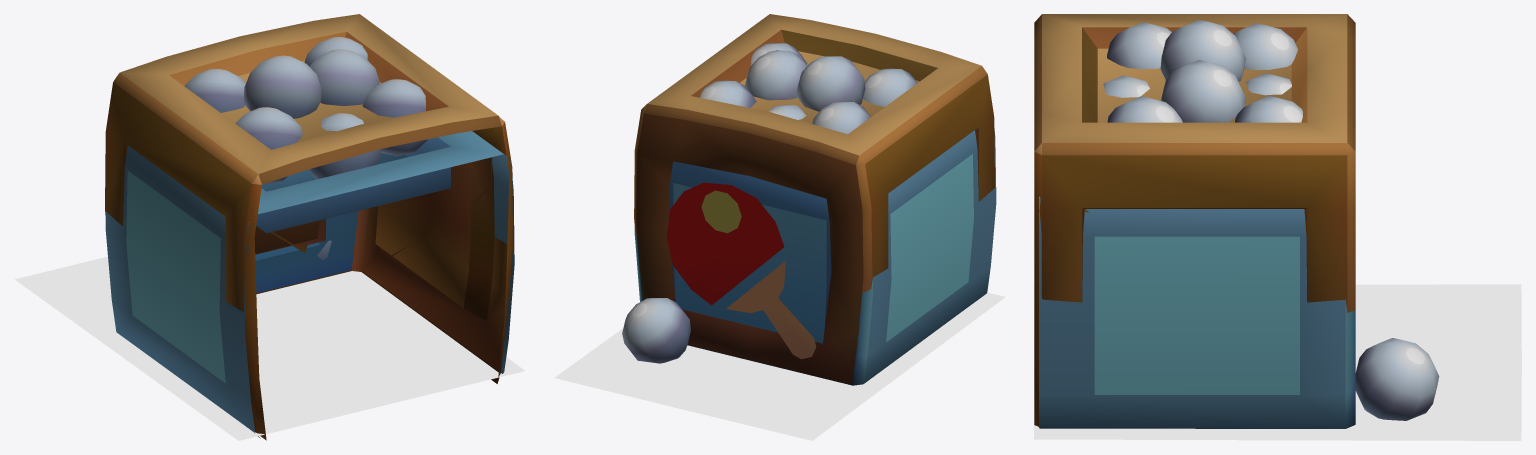
Rendered from city_staticSingle1_box.fbx.
3 renders of one model, left to right at view 1: azimuth 30°, elevation 25°; view 2: azimuth 150°, elevation 25°; view 3: azimuth 270°, elevation 25°, orthographic. The views are drawn at different scales.
Visible parts, largest first — view 1: city_staticSingle1_box, city_staticSingle1_box_SummerSports, boxShadow; view 2: city_staticSingle1_box_SummerSports, city_staticSingle1_box, boxShadow; view 3: city_staticSingle1_box_SummerSports, city_staticSingle1_box, boxShadow.
Boxes of the visible parts, x1,y1,x2,y2 form: city_staticSingle1_box: (105,14,512,440); city_staticSingle1_box_SummerSports: (105,37,514,438); boxShadow: (15,256,524,440); city_staticSingle1_box_SummerSports: (622,43,996,385); city_staticSingle1_box: (634,14,994,384); boxShadow: (554,292,1005,440); city_staticSingle1_box_SummerSports: (1039,20,1439,428); city_staticSingle1_box: (1034,14,1355,426); boxShadow: (1034,284,1521,440).
Size of the model in its own units: 93.71 by 93.81 by 123.
